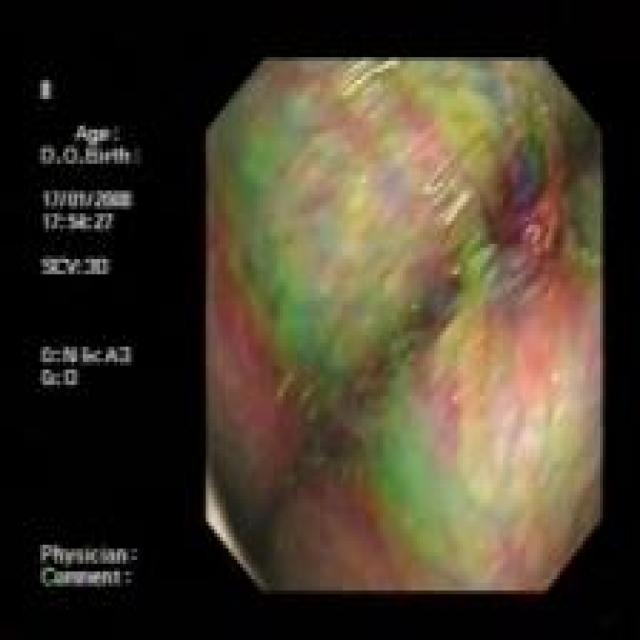color misalignment: (207, 60, 602, 593), (35, 77, 153, 594)
